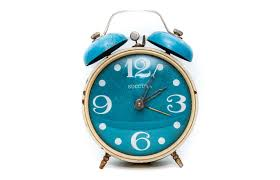alarm_clock: (80, 6, 196, 170), (80, 11, 196, 170)
